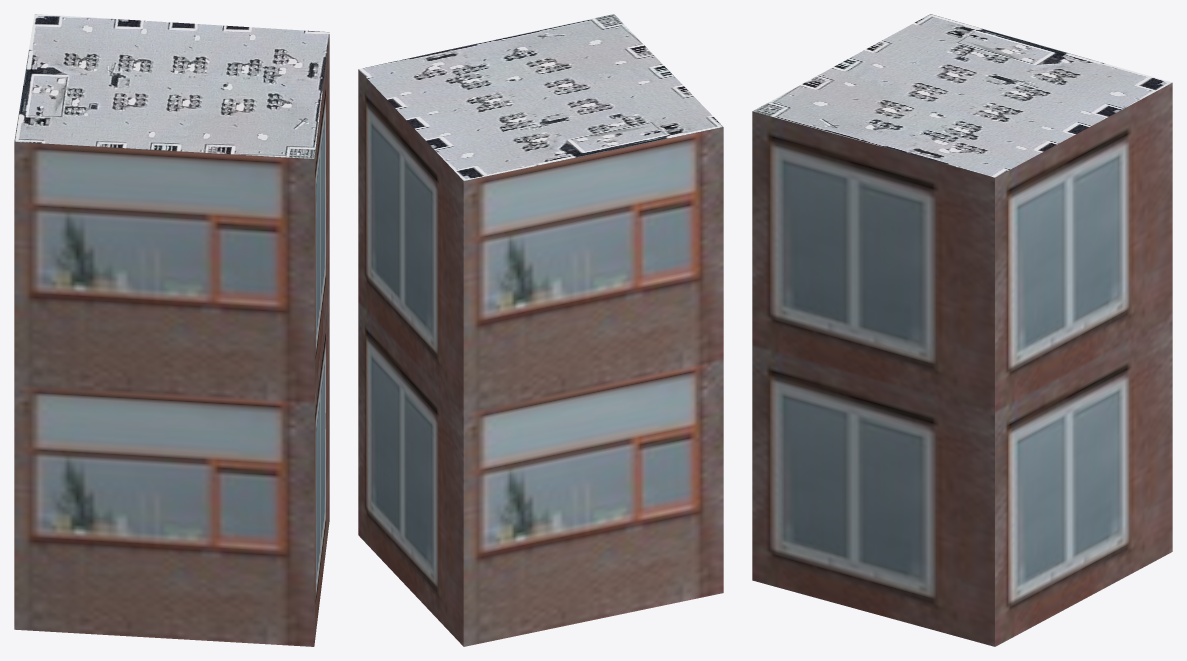
File: ResTex__4339.fbx
3 renders of one model, left to right at view 1: azimuth 30°, elevation 25°; view 2: azimuth 150°, elevation 25°; view 3: azimuth 270°, elevation 25°, orthographic. The views are drawn at different scales.
Visible parts, largest first — view 1: CityEngineMaterial_19_m, CityEngineMaterial_15_m; view 2: CityEngineMaterial_19_m, CityEngineMaterial_15_m; view 3: CityEngineMaterial_19_m, CityEngineMaterial_15_m.
Boxes of the visible parts, left/top/right/bottom form: CityEngineMaterial_19_m: left=14, top=34, right=329, bottom=646; CityEngineMaterial_15_m: left=14, top=14, right=329, bottom=158; CityEngineMaterial_19_m: left=358, top=69, right=723, bottom=646; CityEngineMaterial_15_m: left=358, top=14, right=722, bottom=180; CityEngineMaterial_19_m: left=752, top=83, right=1172, bottom=646; CityEngineMaterial_15_m: left=753, top=14, right=1172, bottom=177.
Bounding box in the file's own units: 4.49 × 6 × 4.87.
Materials: 2 (2 with a texture image).
